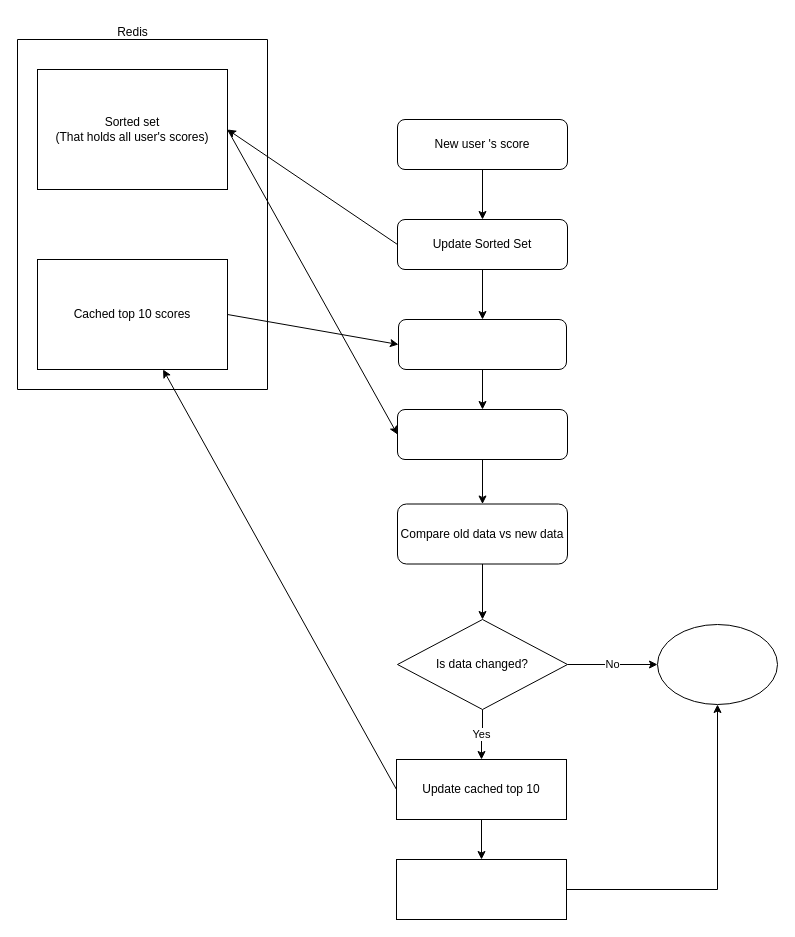
Image size: 795x937. Some labels were removed from this diagram. Here are the shapes that lost their labels. From the top down, the centre of each, then its label:
At point (482, 344): "Get current cached top 10".
At point (482, 434): "Get top 10 from sorted set".
At point (717, 664): "Finish".
At point (481, 889): "Notify to users that score board has been changed".
